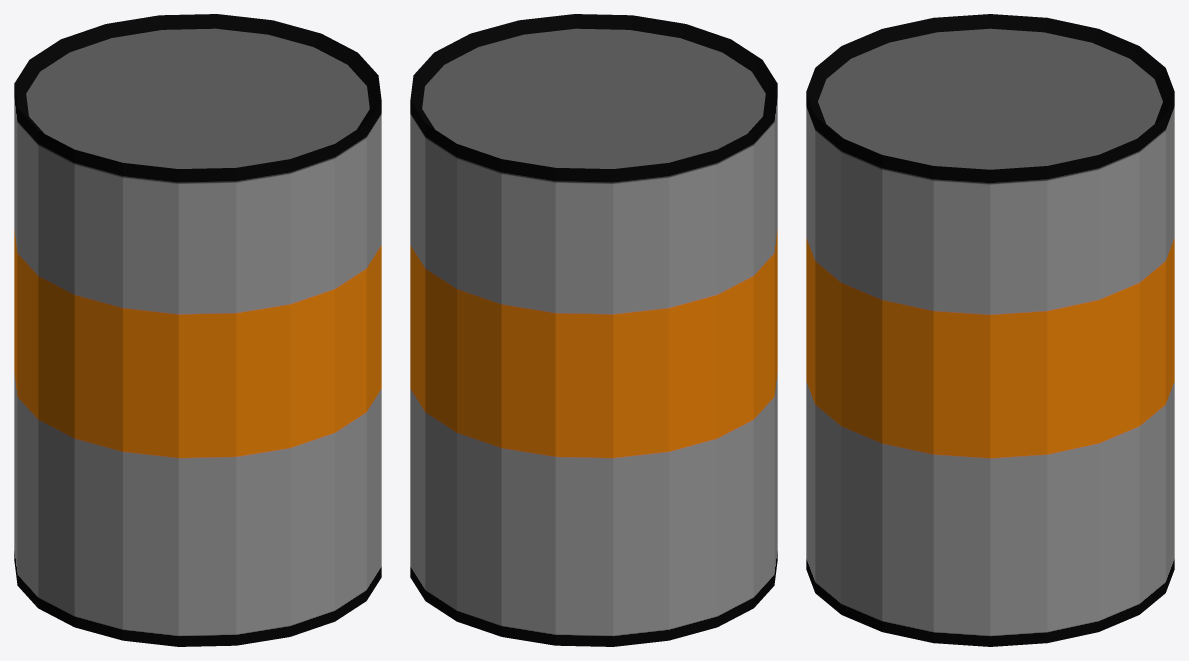
Rendered from Barrel.fbx.
3 views of the same model, side by side, from view 1: azimuth 30°, elevation 25°; view 2: azimuth 150°, elevation 25°; view 3: azimuth 270°, elevation 25° (orthographic).
Visible parts, largest first — view 1: pCylinder1; view 2: pCylinder1; view 3: pCylinder1.
Boxes of the visible parts, x1,y1,x2,y2 form: pCylinder1: (14,14,381,646); pCylinder1: (410,14,777,646); pCylinder1: (806,14,1174,646).
Bounding box in the file's own units: 0.7 × 1 × 0.7.
1 material, 1 textured.
